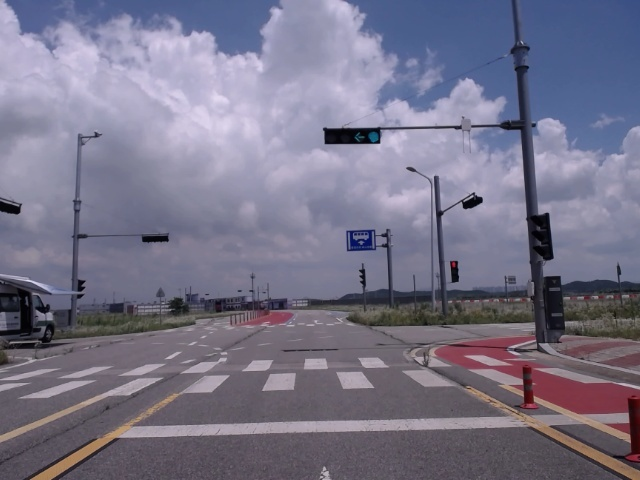all_green_4: (324, 129, 380, 145)
